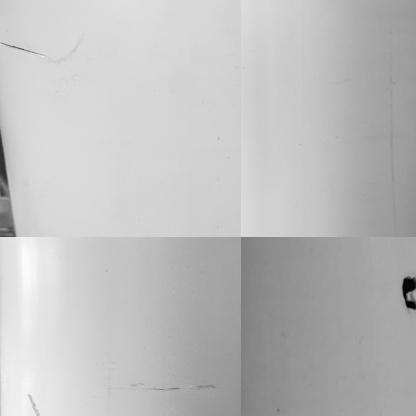kongdong: (400, 276, 416, 314)
sunshang: (2, 40, 52, 61)
